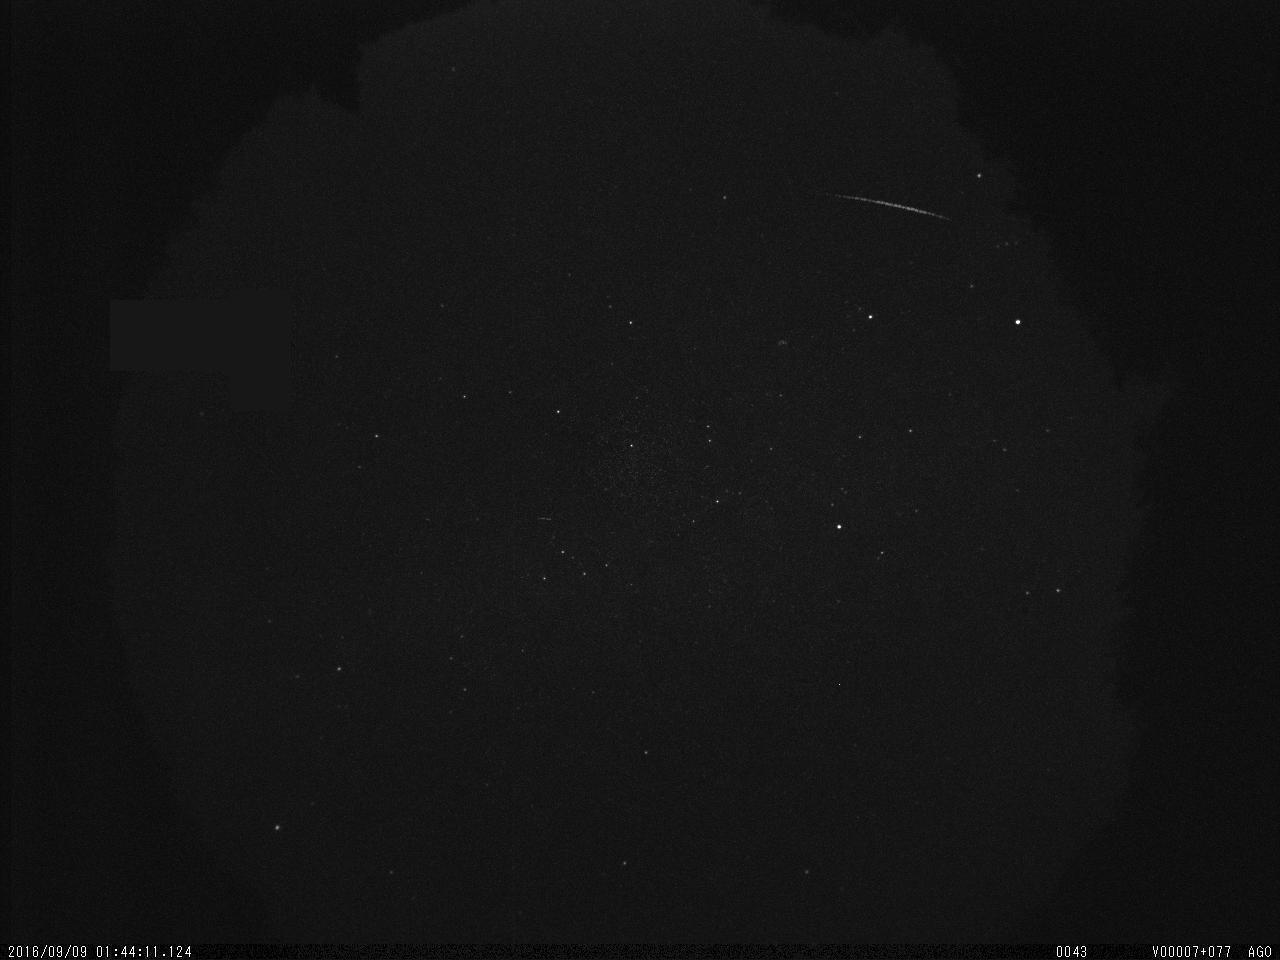Meteor: (829, 190, 952, 223)
